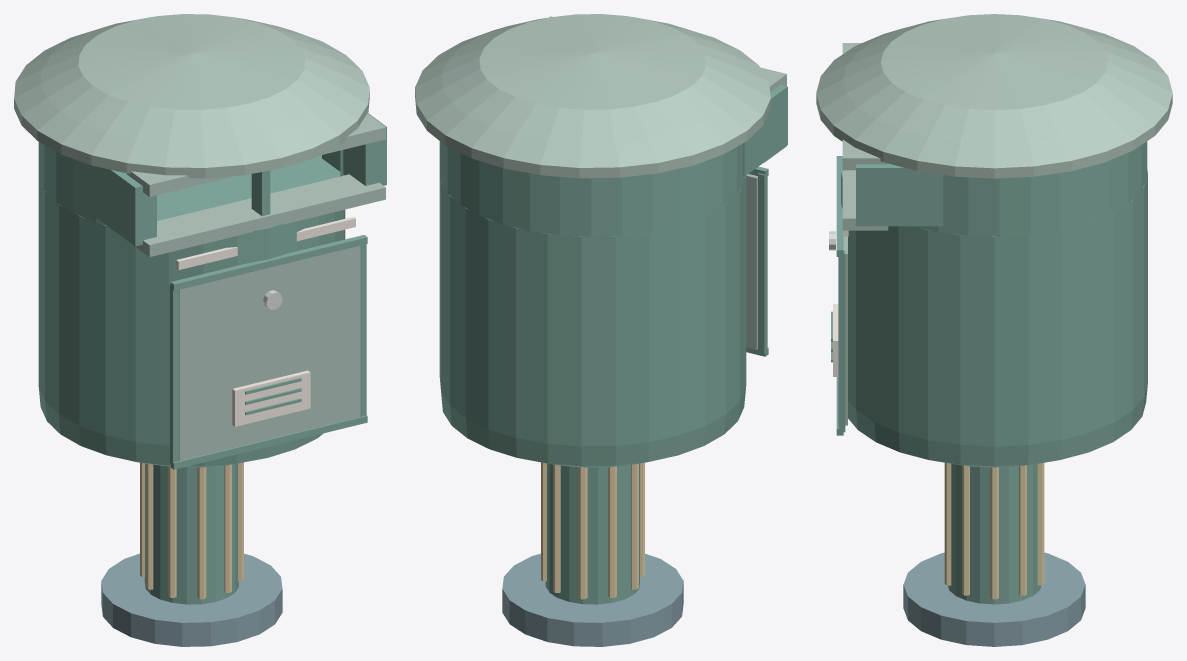
The model's file is prop-mailbox.glb.
3 renders of one model, left to right at view 1: azimuth 30°, elevation 25°; view 2: azimuth 150°, elevation 25°; view 3: azimuth 270°, elevation 25°, orthographic.
Parts seen in each view (by area): view 1: single_pedestal_1, foot_0; view 2: single_pedestal_1, foot_0; view 3: single_pedestal_1, foot_0.
Part boxes in pixels (bbox=[...]): single_pedestal_1: bbox=[14, 14, 386, 604]; foot_0: bbox=[101, 290, 282, 646]; single_pedestal_1: bbox=[415, 14, 787, 604]; foot_0: bbox=[502, 553, 683, 646]; single_pedestal_1: bbox=[816, 14, 1172, 604]; foot_0: bbox=[829, 231, 1085, 646].
Bounding box in the file's own units: 0.9401 × 1.62 × 0.9401.
Materials: 2 (2 with a texture image).
